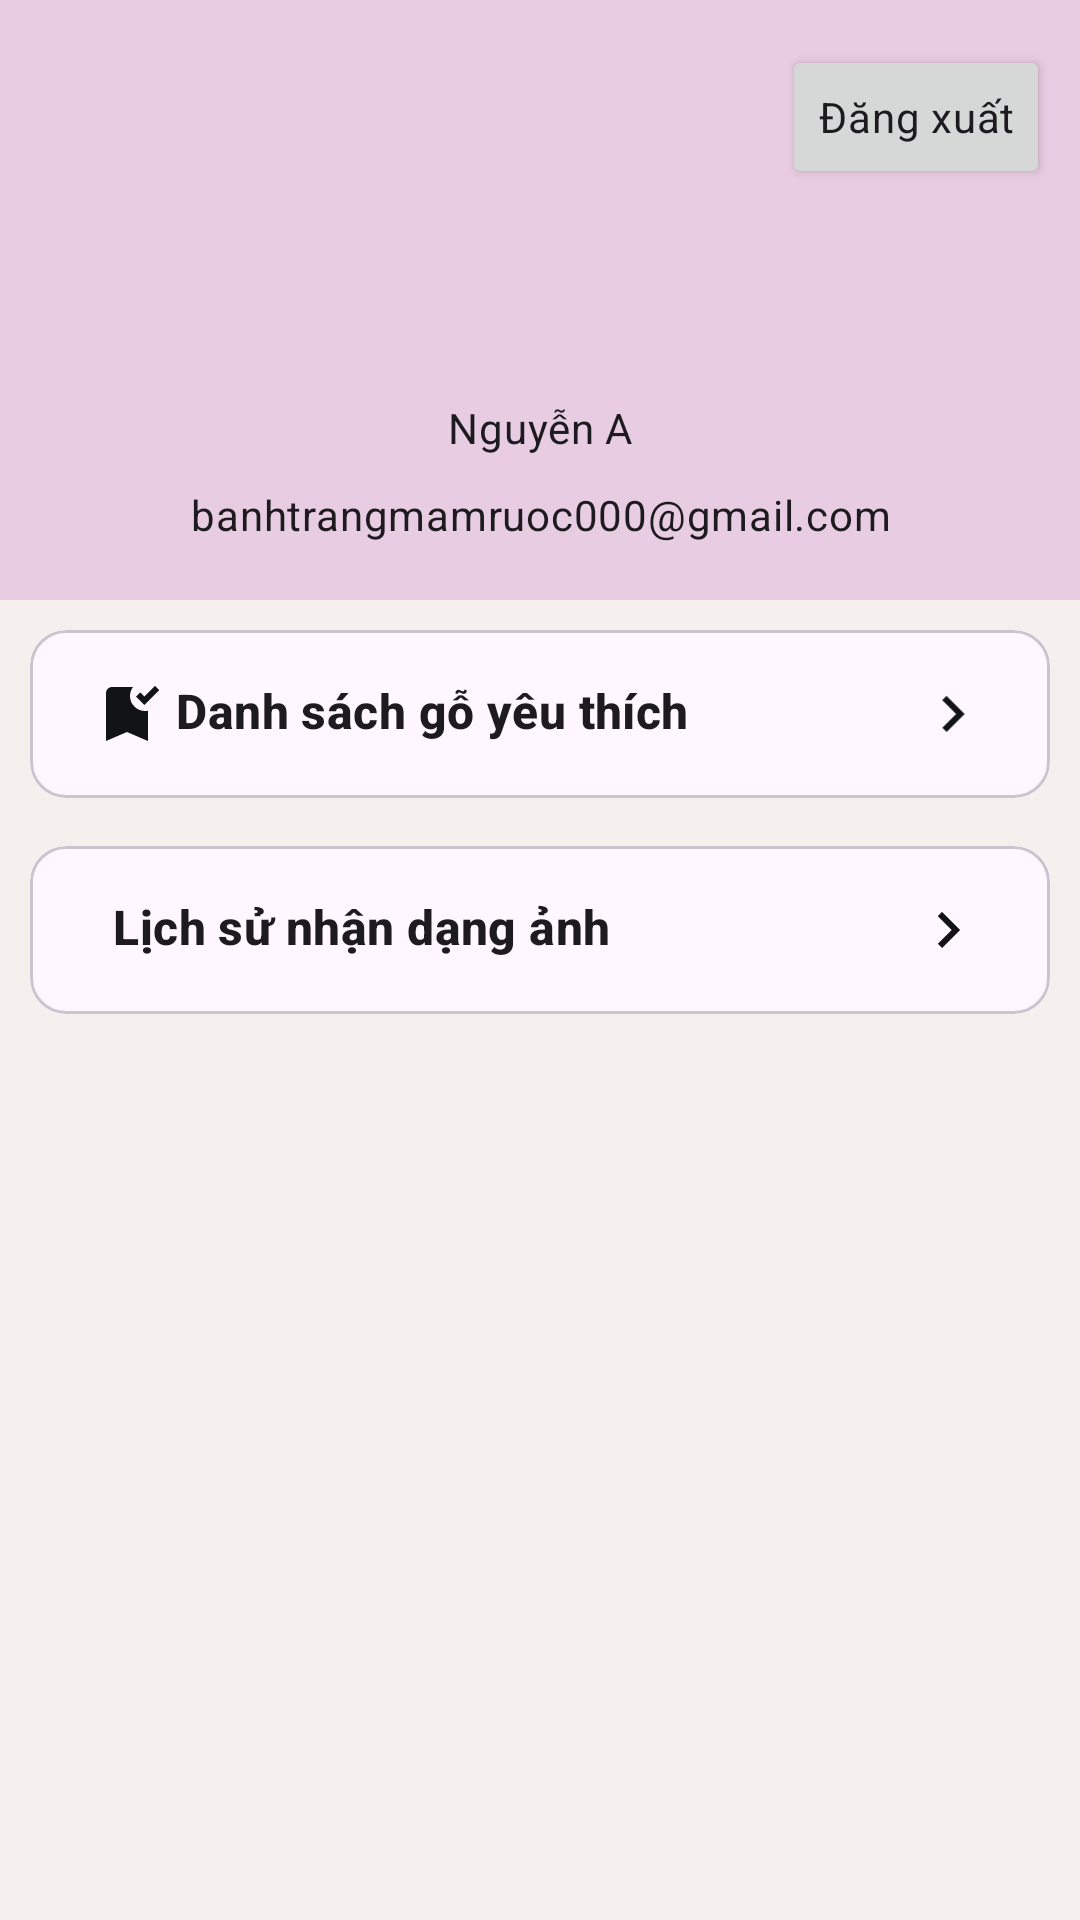

Icon bounding boxes for this 1080 × 1920 phone screenshot, format (x1, y1, x2, y2):
mark: (106, 686, 159, 741)
next: (942, 696, 965, 732), (938, 912, 960, 948)
